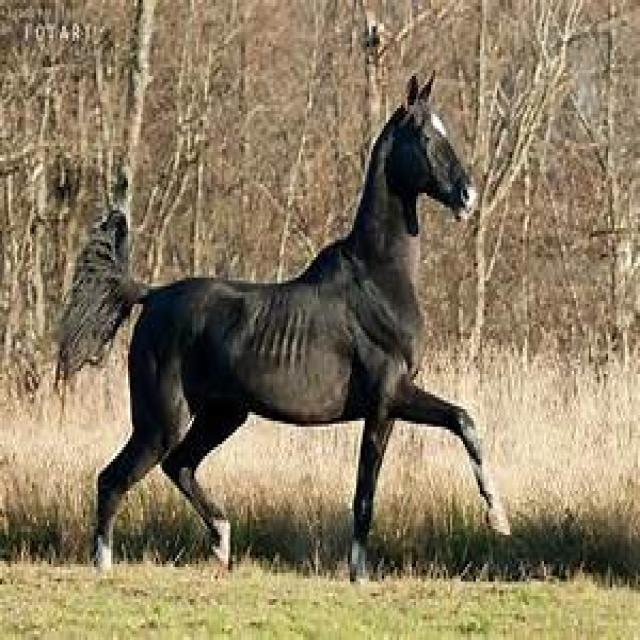horse: (58, 77, 510, 580)
